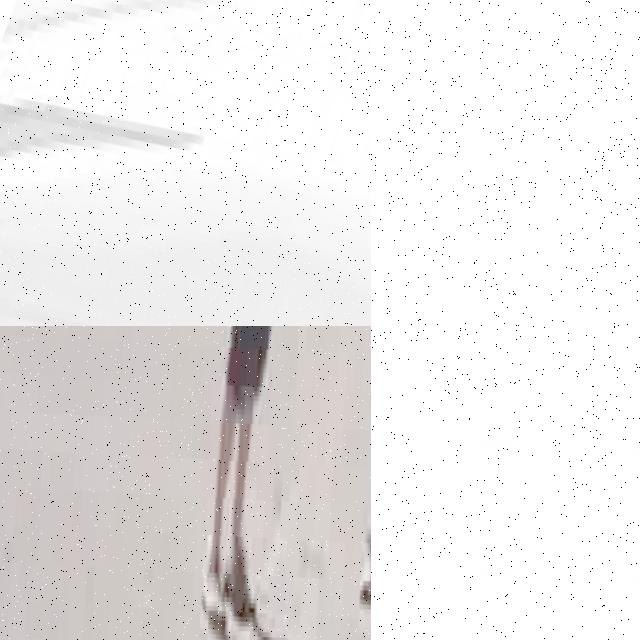drone: (0, 0, 371, 326)
